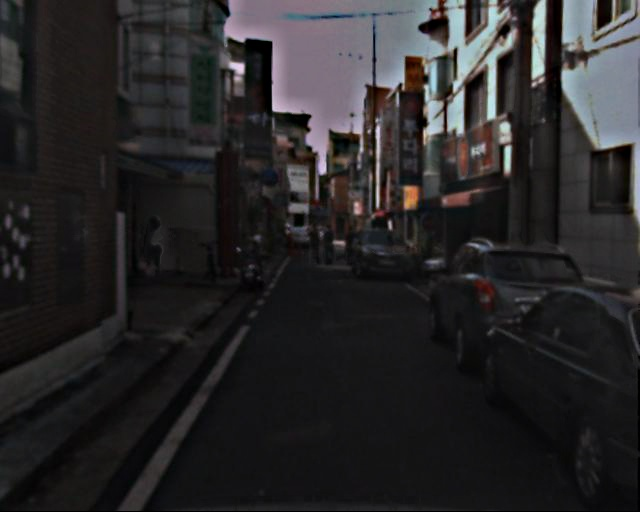person: (140, 215, 167, 280), (321, 220, 339, 265), (307, 221, 325, 266), (344, 225, 360, 264)
